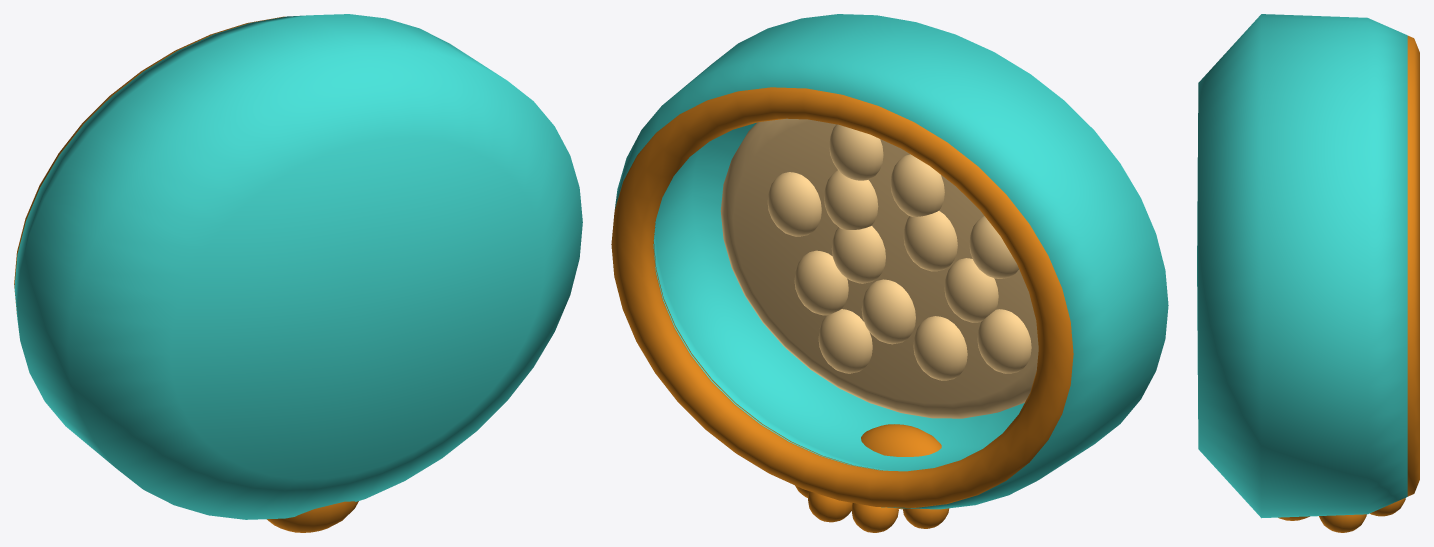
File: CeramicBowl_Premium.fbx
3 views of the same model, side by side, from view 1: azimuth 30°, elevation 25°; view 2: azimuth 150°, elevation 25°; view 3: azimuth 270°, elevation 25° (orthographic). The views are drawn at different scales.
Visible parts, largest first — view 1: CeramicBowl_Body; view 2: CeramicBowl_Body; view 3: CeramicBowl_Body.
Boxes of the visible parts, x1,y1,x2,y2 form: CeramicBowl_Body: (14, 14, 582, 532); CeramicBowl_Body: (611, 14, 1168, 532); CeramicBowl_Body: (1197, 14, 1419, 532).
Size of the model in its own units: 0.4033 by 0.36 by 0.1552.
